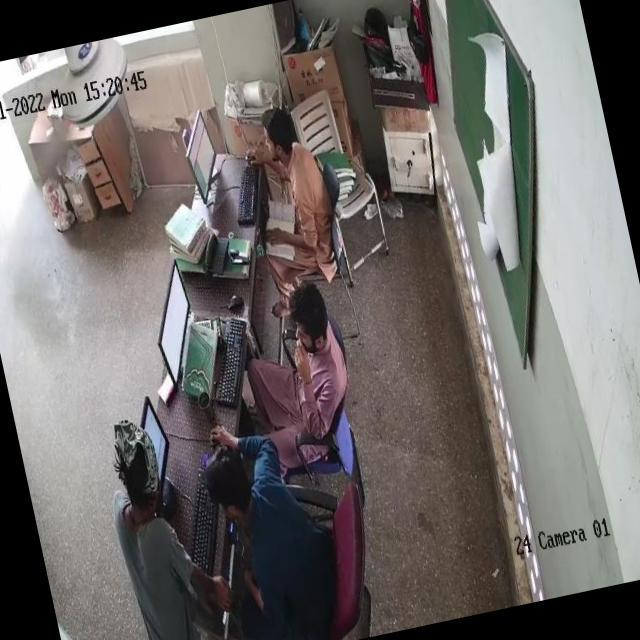person: (202, 426, 338, 618), (99, 415, 201, 640), (235, 278, 358, 464), (252, 106, 338, 268)
